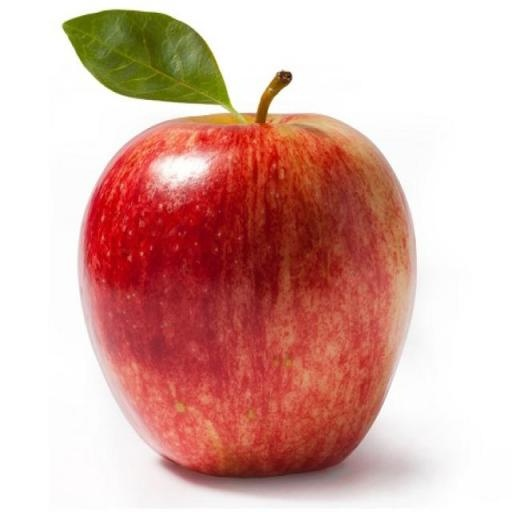fruit: (80, 75, 414, 475)
